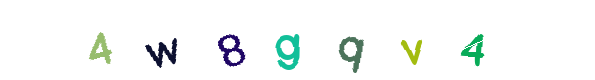4: (149, 0, 229, 80), (434, 0, 514, 80)
8: (257, 0, 337, 80)
G: (258, 0, 338, 80)
Q: (283, 0, 363, 80)
V: (372, 0, 452, 80)
W: (156, 0, 236, 80)
